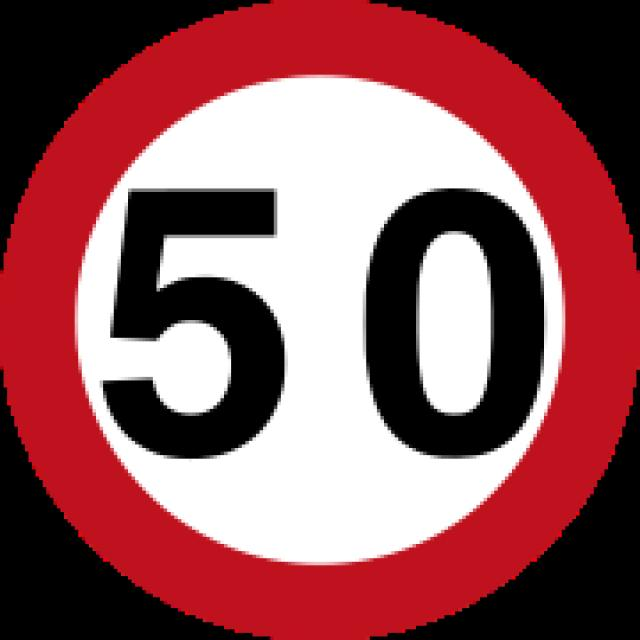Speed Limit -50-: (92, 170, 552, 466)
